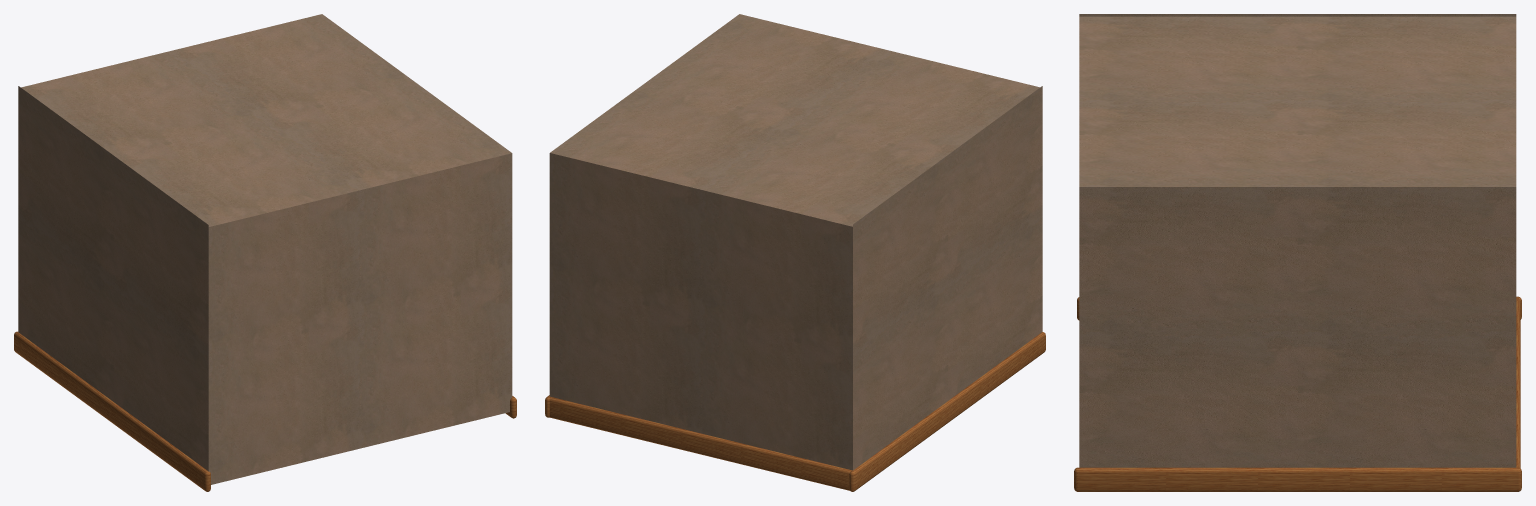
File: env2.obj
3 renders of one model, left to right at view 1: azimuth 30°, elevation 25°; view 2: azimuth 150°, elevation 25°; view 3: azimuth 270°, elevation 25°, orthographic. The views are drawn at different scales.
Visible parts, largest first — view 1: Box001, Object022, ChamferBox004; view 2: Box001, Object022, ChamferBox005, ChamferBox004; view 3: Box001, ChamferBox006, Object022, ChamferBox005.
Boxes of the visible parts, <box> form: Box001: <box>21,14,512,484</box>; Object022: <box>18,86,208,471</box>; ChamferBox004: <box>14,331,210,491</box>; Box001: <box>549,14,1039,470</box>; Object022: <box>853,86,1042,470</box>; ChamferBox005: <box>549,396,852,490</box>; ChamferBox004: <box>849,332,1045,491</box>; Box001: <box>1079,16,1516,467</box>; ChamferBox006: <box>1074,467,1521,491</box>; Object022: <box>1079,14,1516,16</box>; ChamferBox005: <box>1516,297,1520,468</box>.
Bounding box in the file's own units: 240 × 198 × 261.
3 materials, 3 textured.
